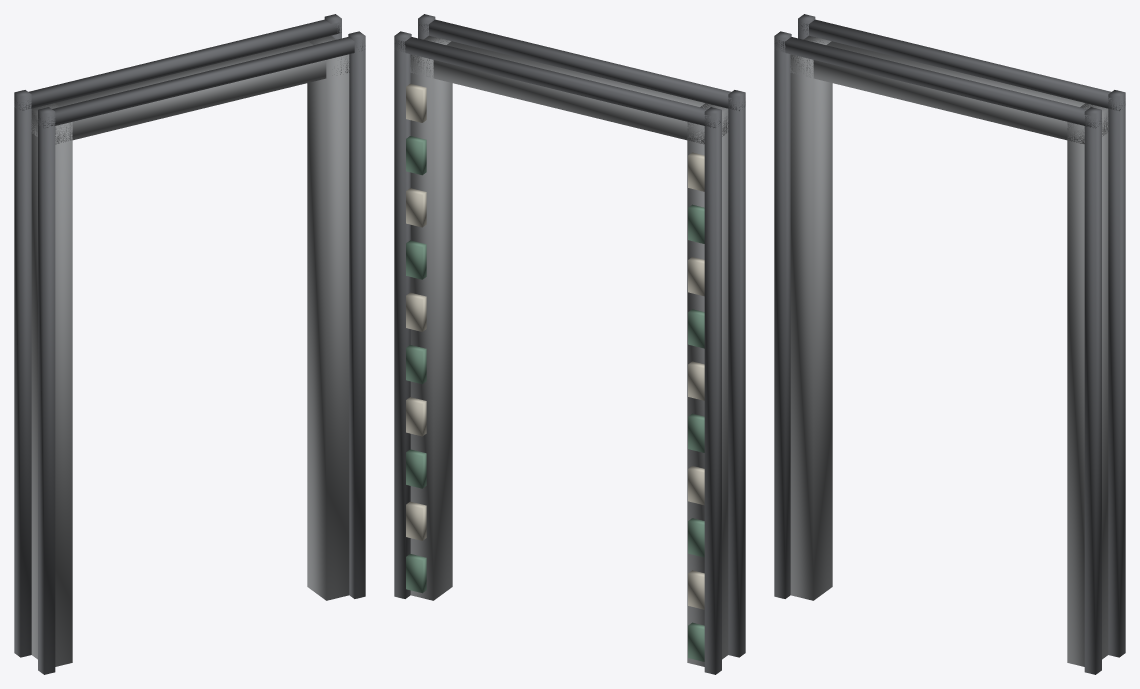
Rendered from doorway_tile_return_w122_h240_d16.glb.
3 views of the same model, side by side, from view 1: azimuth 30°, elevation 25°; view 2: azimuth 150°, elevation 25°; view 3: azimuth 330°, elevation 25° (orthographic).
Parts seen in each view (by area): view 1: world; view 2: world; view 3: world.
Part boxes in pixels (x1,y1,x2,y2): world: [14, 14, 365, 674]; world: [394, 14, 745, 674]; world: [774, 14, 1125, 674].
Size of the model in its own units: 1.55 by 2.58 by 0.2496.
